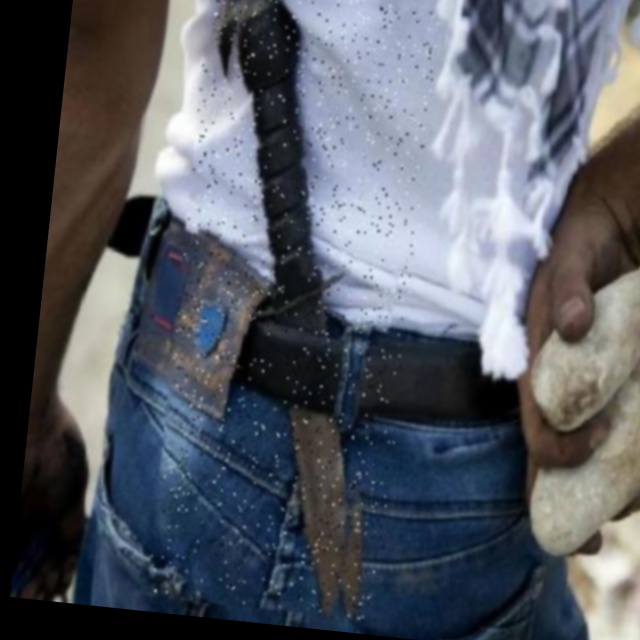Sharp-Object: (147, 0, 440, 621)
